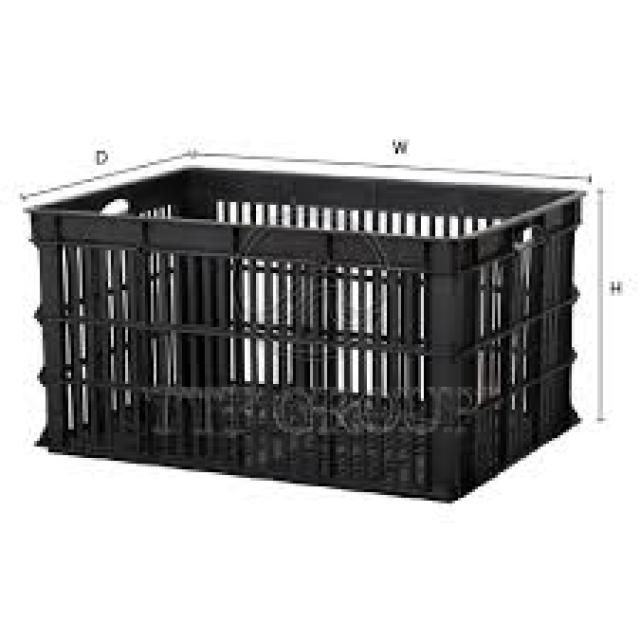basket: (9, 144, 595, 506)
